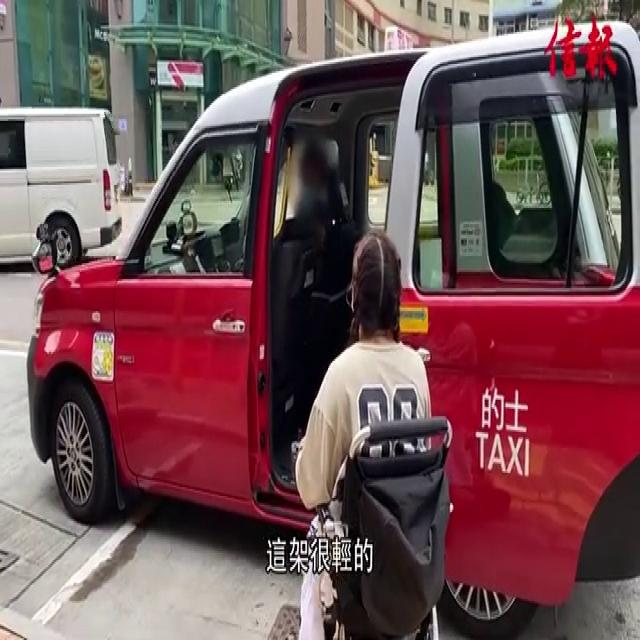wheelchairs: (274, 394, 472, 640)
